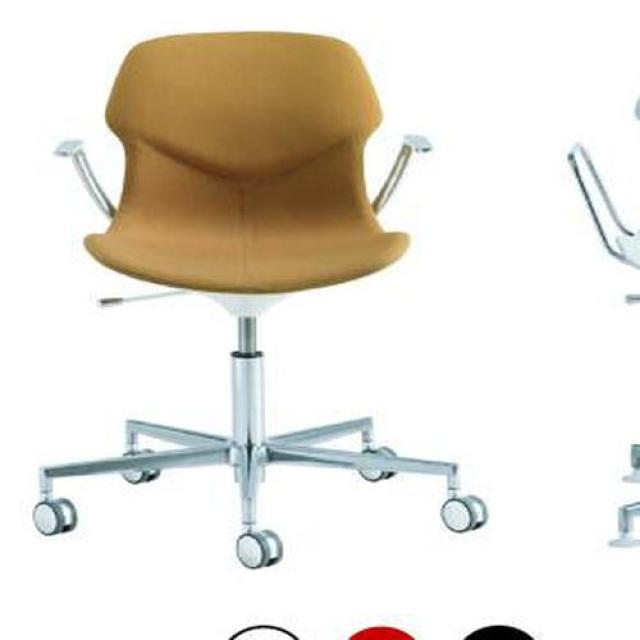swivelchair: (31, 316, 490, 571), (54, 32, 412, 297)
